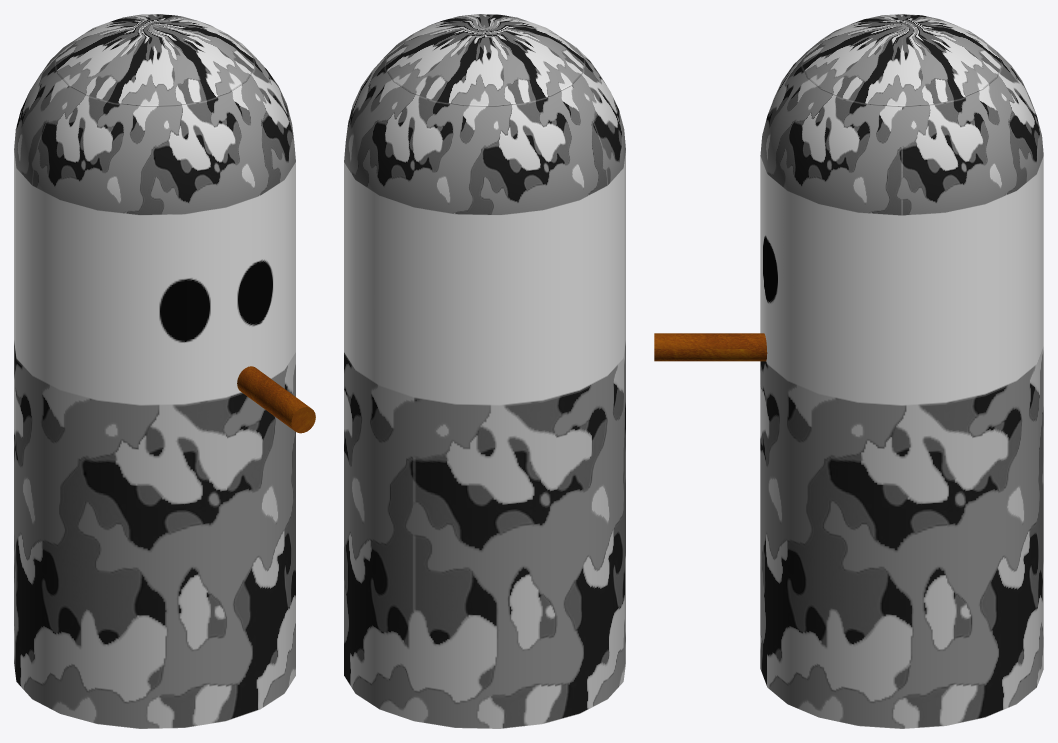
File: soldiergrey.fbx
3 renders of one model, left to right at view 1: azimuth 30°, elevation 25°; view 2: azimuth 150°, elevation 25°; view 3: azimuth 270°, elevation 25°, orthographic.
Visible parts, largest first — view 1: polySurface1, pCylinder2; view 2: polySurface1; view 3: polySurface1, pCylinder2.
Part boxes in pixels (x1,y1,x2,y2): polySurface1: (14,14,295,728); pCylinder2: (237,366,315,433); polySurface1: (344,14,625,728); polySurface1: (760,14,1043,728); pCylinder2: (654,333,767,361).
Bounding box in the file's own units: 2 × 5 × 2.75.
3 materials, 3 textured.
